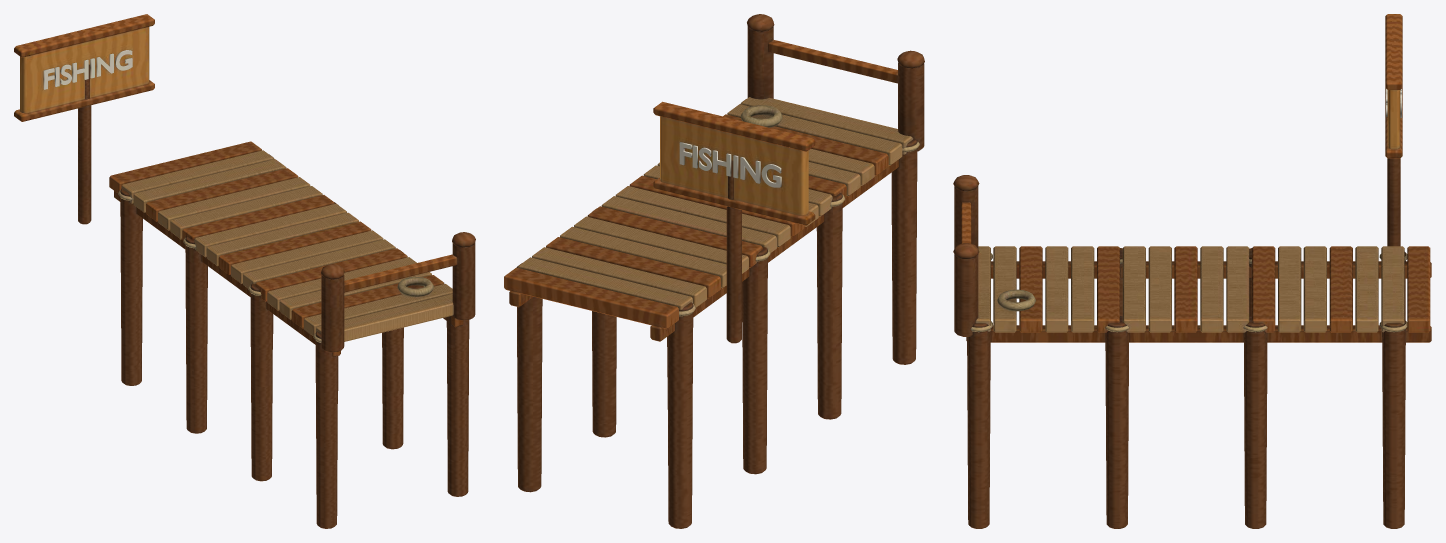
File: fishing_jetty.glb
The picture shows the model from 3 angles, left to right: view 1: azimuth 30°, elevation 25°; view 2: azimuth 150°, elevation 25°; view 3: azimuth 270°, elevation 25°; orthographic projection. The views are drawn at different scales.
Visible parts, largest first — view 1: fishing_jetty; view 2: fishing_jetty; view 3: fishing_jetty.
Part boxes in pixels (x1=…): fishing_jetty: x1=14, y1=14, x2=475, y2=528; fishing_jetty: x1=504, y1=14, x2=924, y2=528; fishing_jetty: x1=953, y1=14, x2=1431, y2=528.
Size of the model in its own units: 1.26 by 1.69 by 1.9.
Materials: 1 (1 with a texture image).
